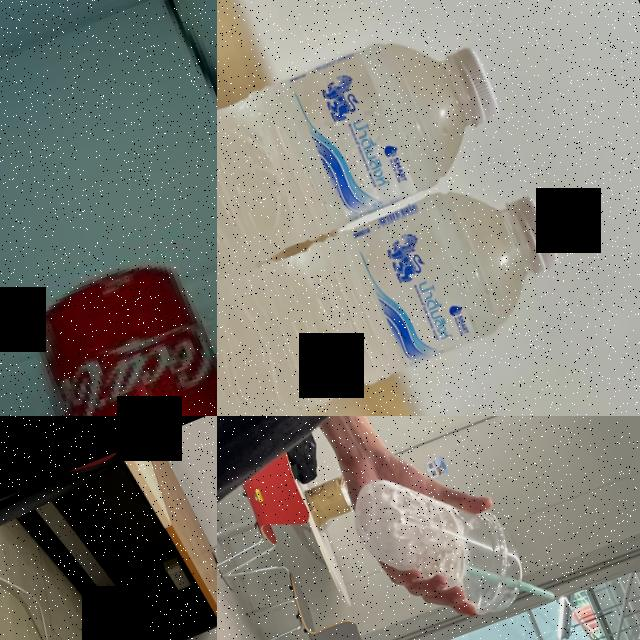bottle: (217, 10, 518, 335), (217, 158, 575, 416)
can: (14, 244, 217, 416)
cup: (339, 439, 534, 640)
